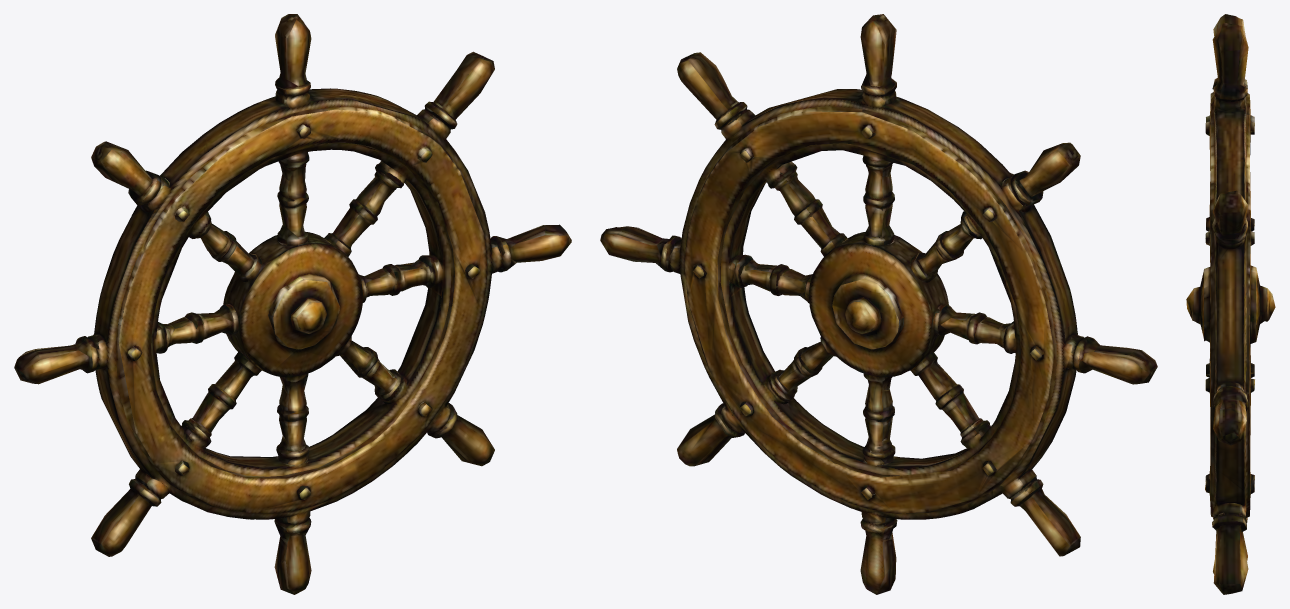
The model's file is helm.glb.
3 renders of one model, left to right at view 1: azimuth 30°, elevation 25°; view 2: azimuth 150°, elevation 25°; view 3: azimuth 270°, elevation 25°, orthographic. The views are drawn at different scales.
Parts seen in each view (by area): view 1: mesh; view 2: mesh; view 3: mesh.
Part boxes in pixels (x1=…): mesh: x1=14, y1=14, x2=571, y2=594; mesh: x1=600, y1=14, x2=1157, y2=594; mesh: x1=1186, y1=14, x2=1275, y2=594.
Bounding box in the file's own units: 2 × 2 × 0.287.
1 material, 1 textured.
